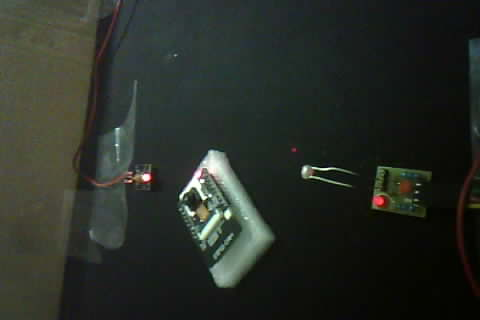esp32: (167, 169, 250, 275)
